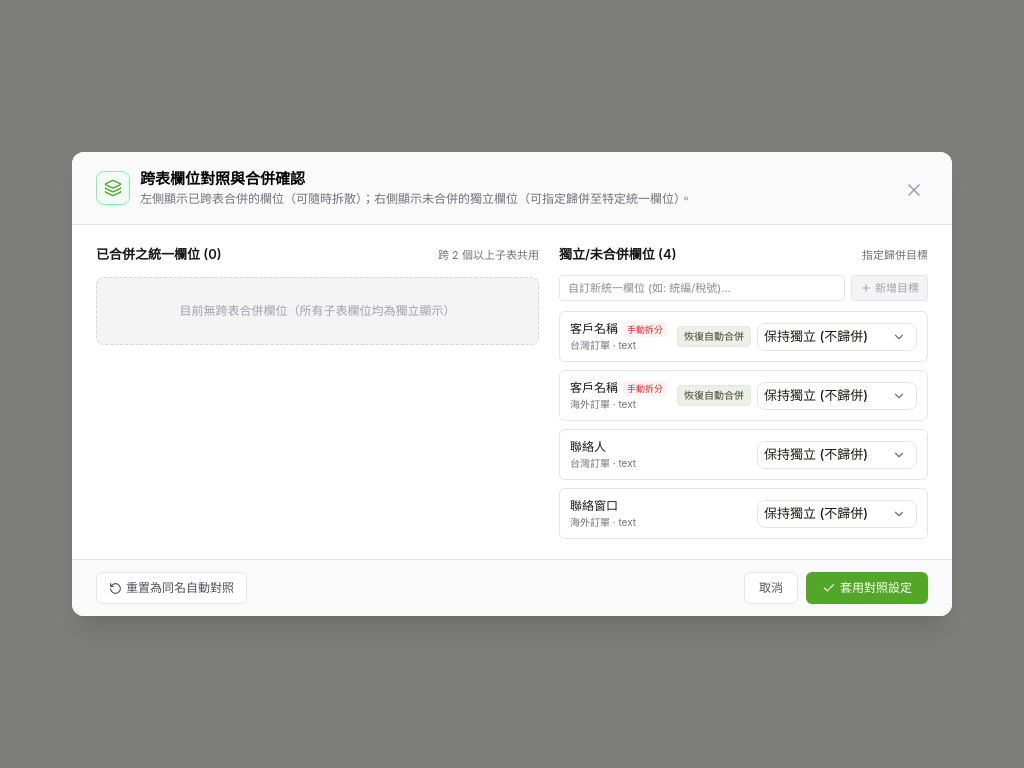
FieldMappingModal UI Component › displays restore auto-merge button for unmerged fields and allows restoring merge
The width and height of the screenshot is (1024, 768).
# Click restore auto merge
Click the button with test id "restore-automerge-field_1". click: (714, 337)
box: [677,326,751,347]
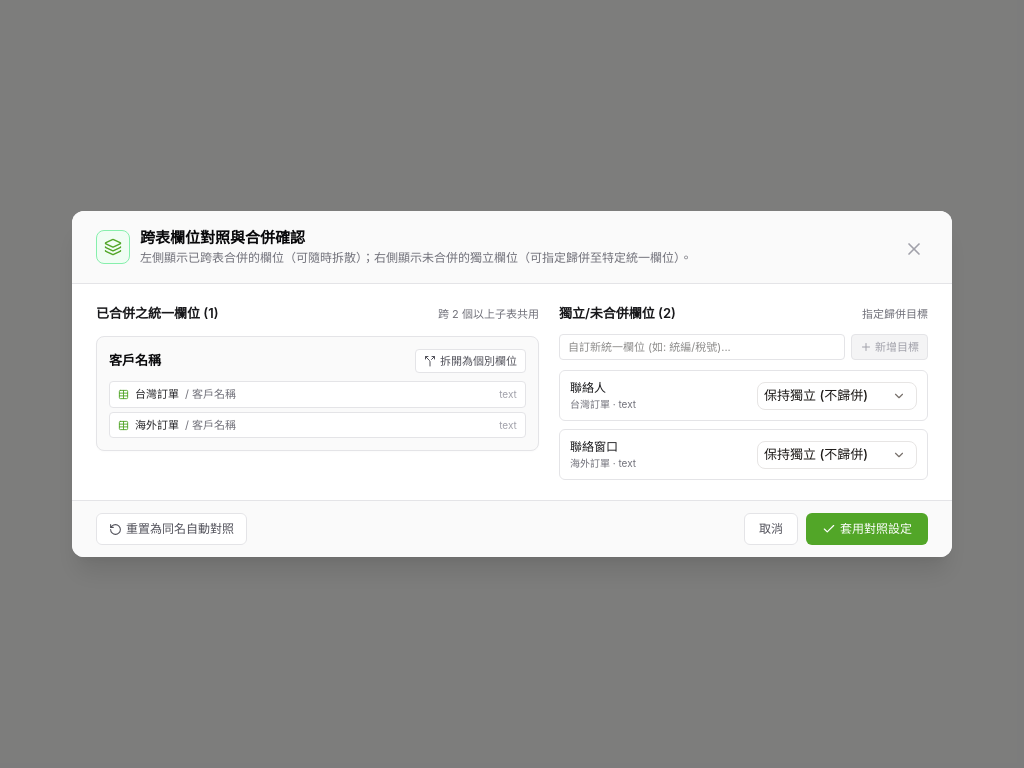
Expected: the text "客戶名稱" is shown, [109,351,161,371]
Expected: the text "已合併之統一欄位 (1)" is shown, [96,304,218,324]
